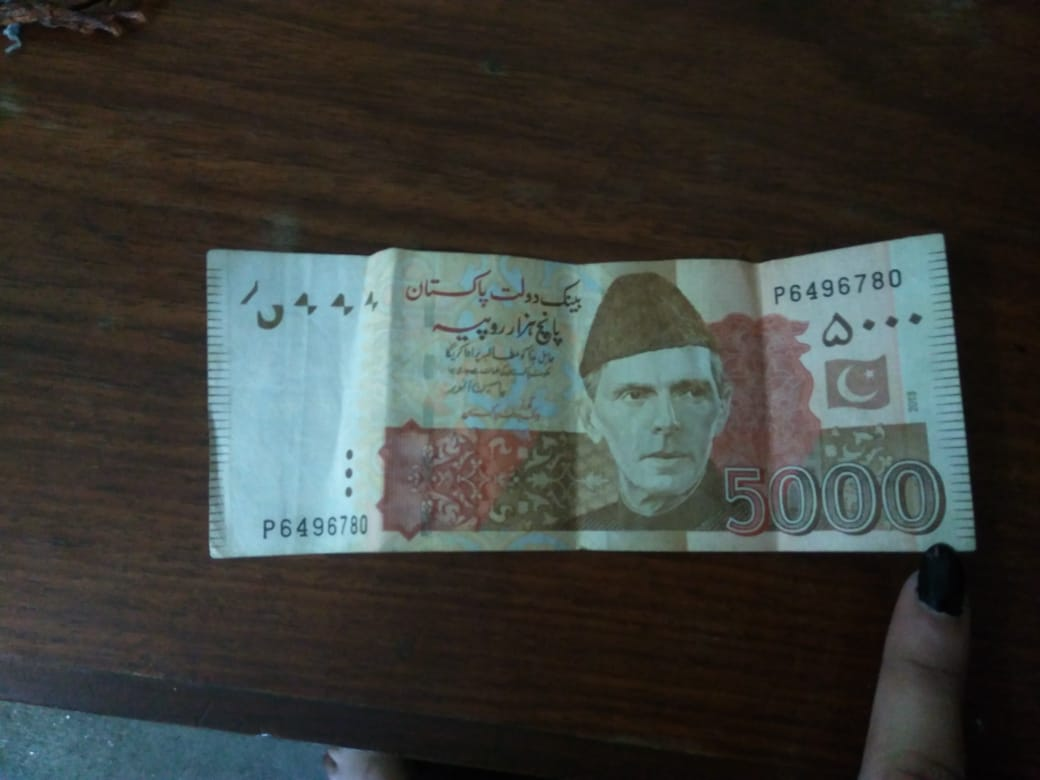5000 rupee: (186, 204, 985, 589)
